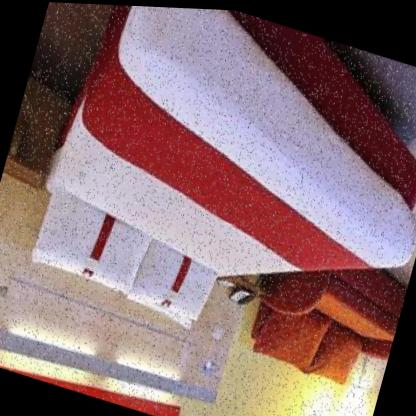Bed: (10, 0, 416, 395)
